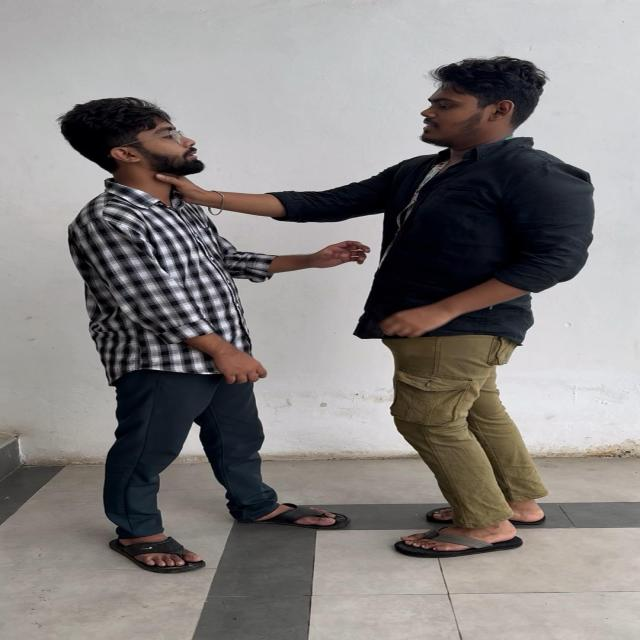fight: (8, 50, 638, 573)
